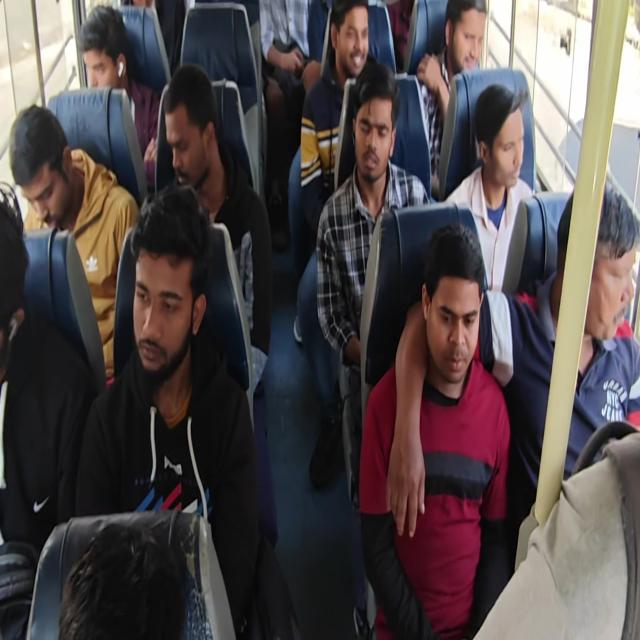person: (63, 535, 205, 640), (563, 182, 636, 336), (130, 206, 193, 368), (4, 106, 76, 223), (423, 250, 481, 380), (161, 88, 222, 204), (472, 94, 538, 180), (0, 202, 30, 382), (435, 0, 498, 84), (80, 2, 128, 90), (353, 100, 397, 182), (328, 2, 378, 74)
